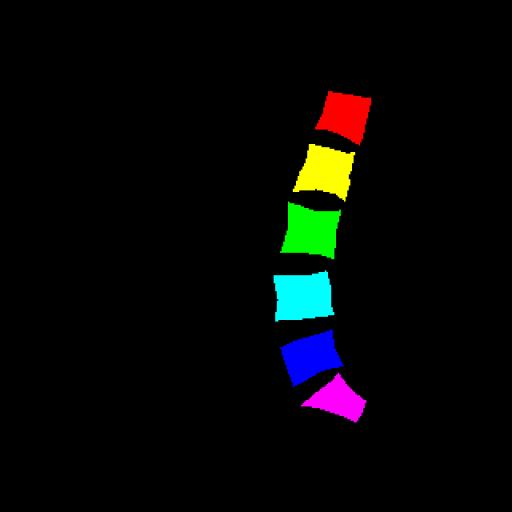L1: (315, 91, 371, 145)
L2: (293, 144, 355, 200)
L3: (281, 202, 341, 259)
L4: (274, 271, 334, 322)
L5: (281, 330, 343, 386)
S1: (301, 373, 366, 422)
